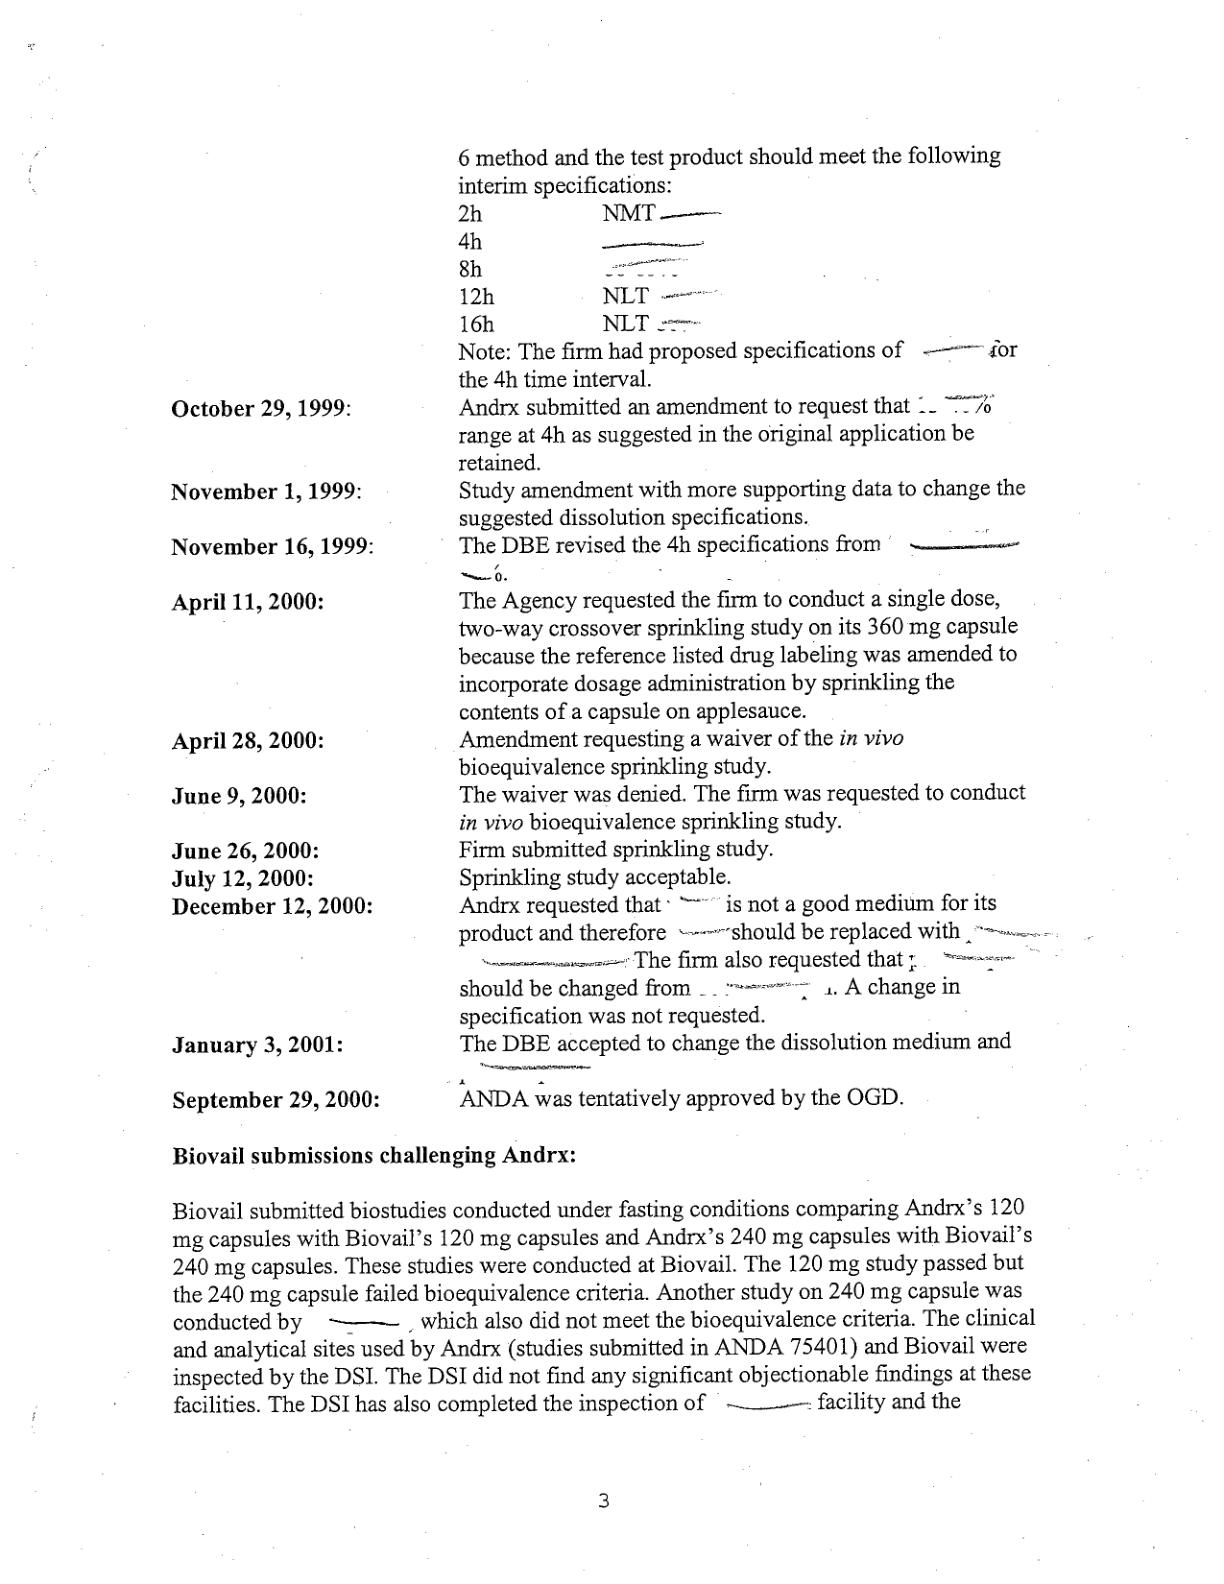nolines: (167, 141, 1029, 1116)
